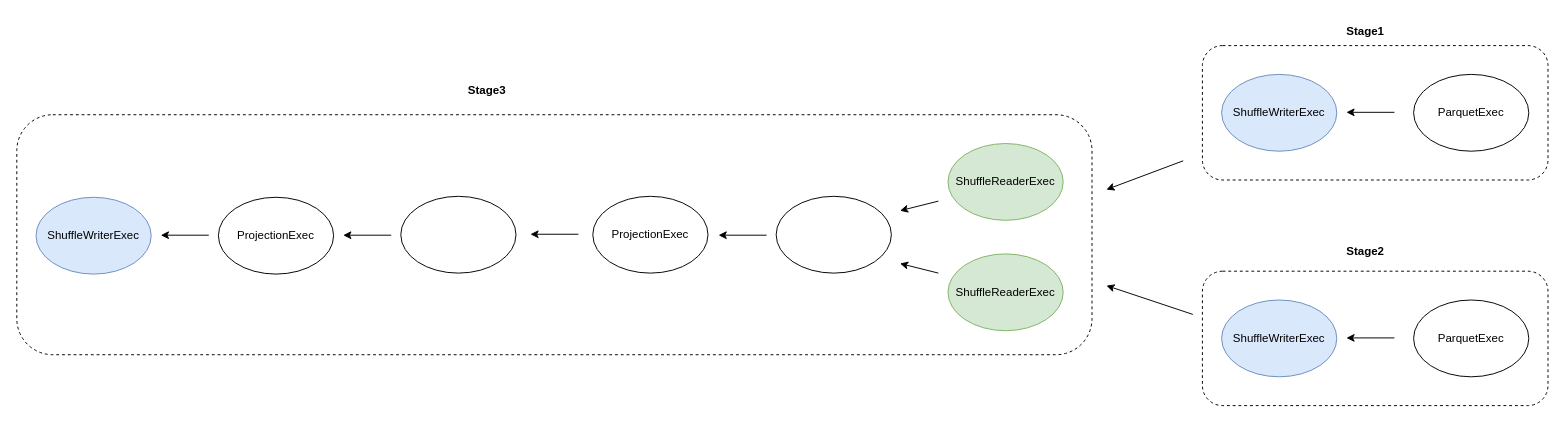
The diagram is 1565 pixels wide and 422 high, and some of its shapes have lost their labels. Here are the shapes that lost their labels. From the top down, the centre of each, then its label:
At (x=458, y=234): "AggregateExec".
At (x=833, y=234): "HashJoinExec".
